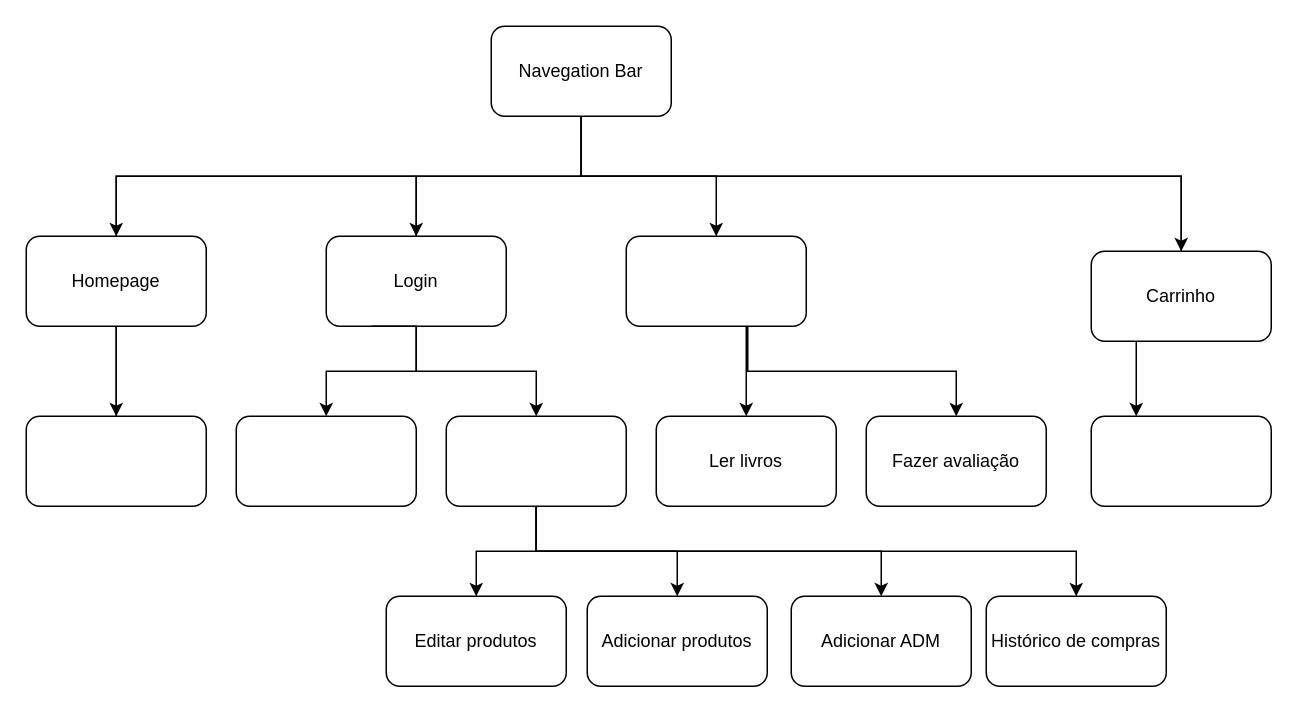
The diagram is 1298 pixels wide and 713 high, and some of its shapes have lost their labels. The shapes that lost their labels are listed below. From the top down, each one's centre as x and y in pixels, then its label:
At point 715,280: "Biblioteca".
At point 115,460: "Produto".
At point 325,460: "Perfil do Cliente".
At point 535,460: "Perfil do ADM".
At point 1180,460: "Finalizar Compra".
